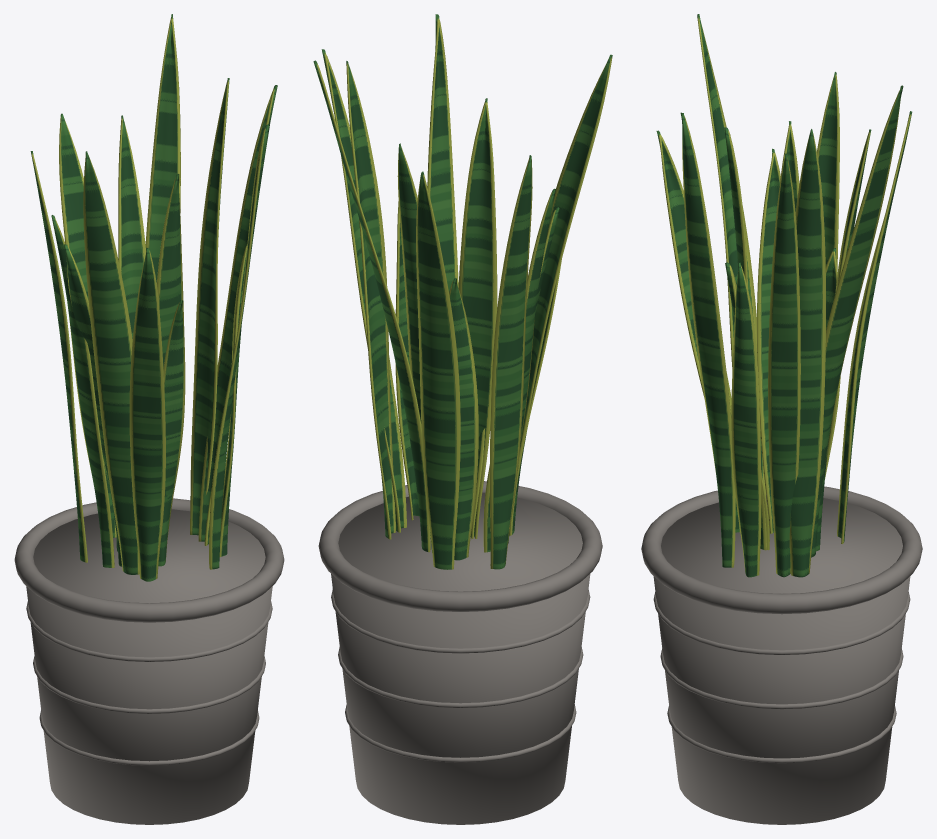
The model's file is snake_plant.glb.
3 renders of one model, left to right at view 1: azimuth 30°, elevation 25°; view 2: azimuth 150°, elevation 25°; view 3: azimuth 270°, elevation 25°, orthographic. The views are drawn at different scales.
Parts seen in each view (by area): view 1: SnakePlant_Leaves, SnakePlanter_Pot, SnakePlanter_Rim, Pot_Rib_0.26, Pot_Rib_0.18, Pot_Rib_0.10; view 2: SnakePlant_Leaves, SnakePlanter_Pot, SnakePlanter_Rim, Pot_Rib_0.26, Pot_Rib_0.18, Pot_Rib_0.10; view 3: SnakePlant_Leaves, SnakePlanter_Pot, SnakePlanter_Rim, Pot_Rib_0.26, Pot_Rib_0.18, Pot_Rib_0.10.
Part boxes in pixels (<box>): SnakePlant_Leaves: <box>30,14,277,581</box>; SnakePlanter_Pot: <box>26,509,272,824</box>; SnakePlanter_Rim: <box>14,498,284,622</box>; Pot_Rib_0.26: <box>26,601,272,661</box>; Pot_Rib_0.18: <box>33,656,265,713</box>; Pot_Rib_0.10: <box>39,710,259,765</box>; SnakePlant_Leaves: <box>313,14,612,569</box>; SnakePlanter_Pot: <box>331,492,590,824</box>; SnakePlanter_Rim: <box>318,481,602,611</box>; Pot_Rib_0.26: <box>331,589,590,653</box>; Pot_Rib_0.18: <box>338,647,583,707</box>; Pot_Rib_0.10: <box>345,704,576,762</box>; SnakePlant_Leaves: <box>656,14,912,577</box>; SnakePlanter_Pot: <box>653,495,910,824</box>; SnakePlanter_Rim: <box>641,486,922,614</box>; Pot_Rib_0.26: <box>653,592,910,654</box>; Pot_Rib_0.18: <box>660,648,903,709</box>; Pot_Rib_0.10: <box>667,706,896,763</box>.
Size of the model in its own units: 0.3784 by 1.03 by 0.358.
Materials: 3 (1 with a texture image).
